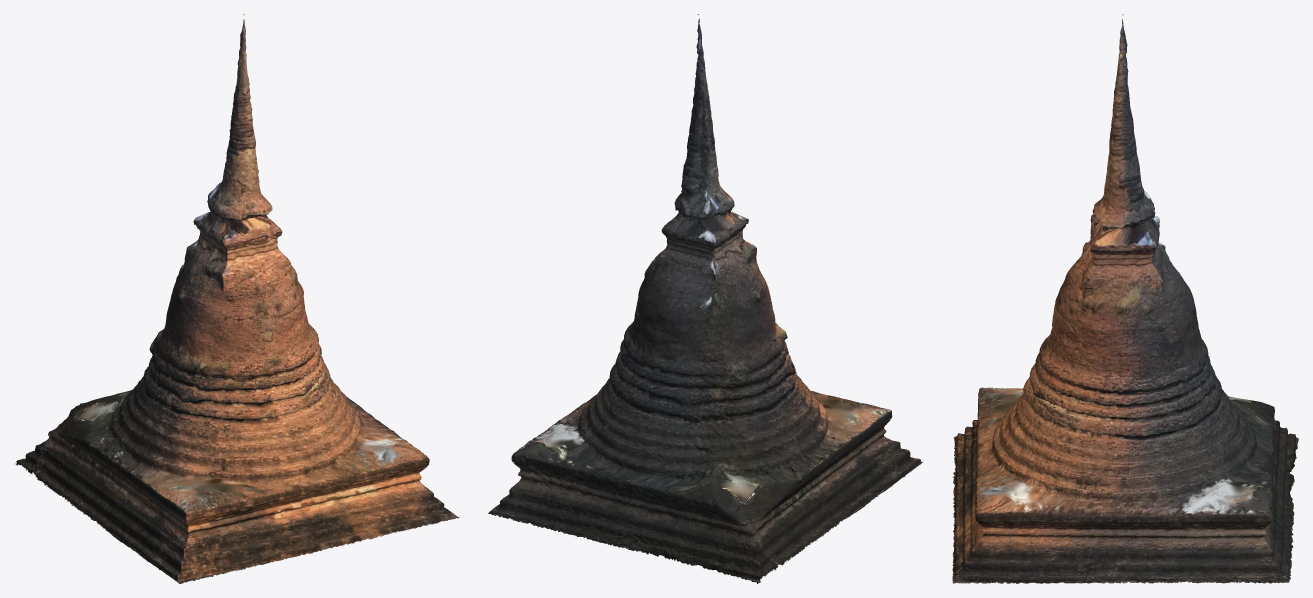
3 renders of one model, left to right at view 1: azimuth 30°, elevation 25°; view 2: azimuth 150°, elevation 25°; view 3: azimuth 270°, elevation 25°, orthographic. The views are drawn at different scales.
Visible parts, largest first — view 1: Object_2; view 2: Object_2; view 3: Object_2.
Boxes of the visible parts, box(x1,y1,x2,y2) form: Object_2: box(15, 14, 459, 583); Object_2: box(488, 14, 923, 583); Object_2: box(952, 14, 1298, 583).
Bounding box in the file's own units: 9.2 × 14.97 × 9.35.
Materials: 1 (1 with a texture image).
